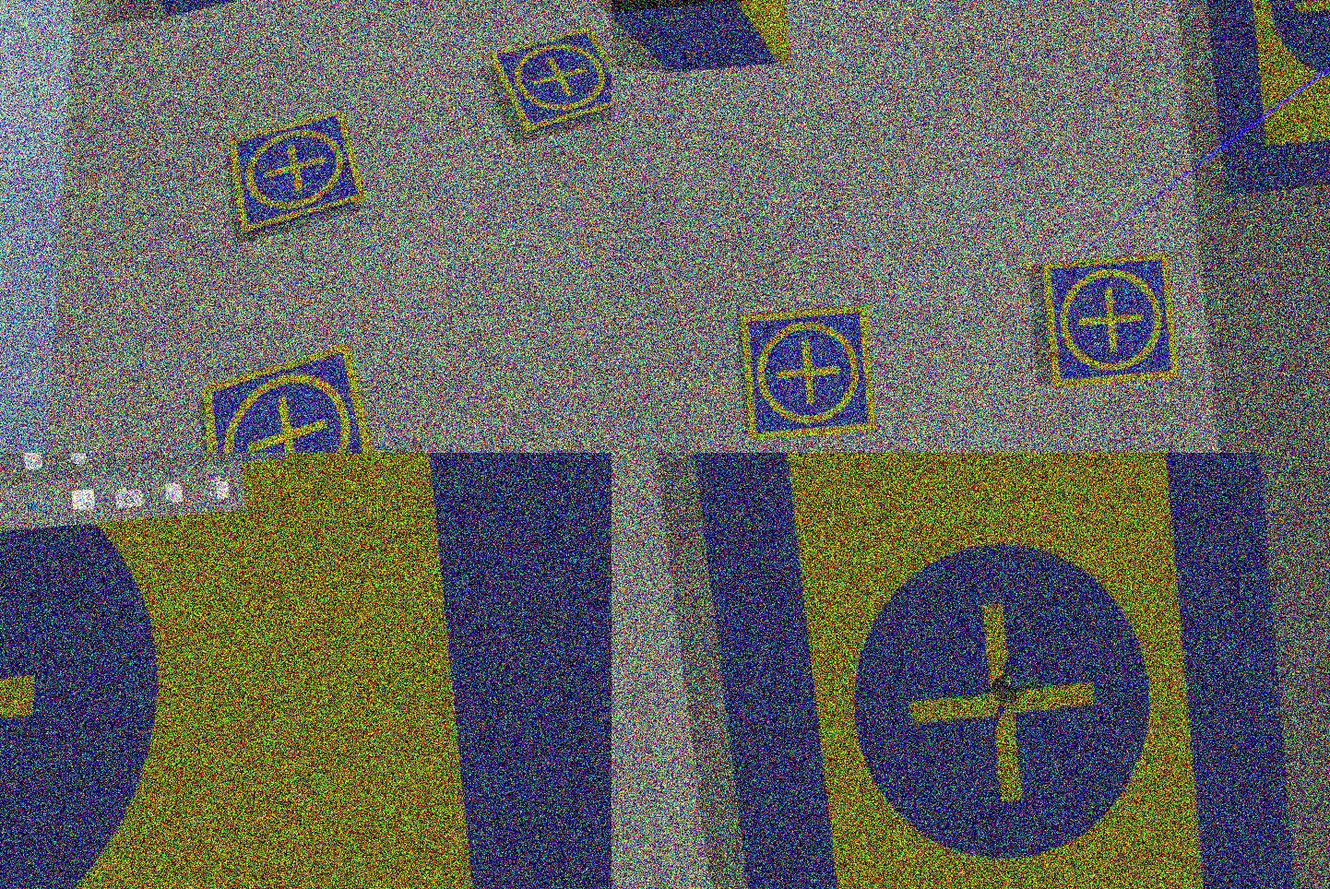large_base: (689, 454, 1314, 889), (1, 454, 612, 889), (1202, 1, 1330, 198)
small_base: (196, 341, 390, 454), (737, 304, 880, 446), (1038, 251, 1182, 391), (222, 112, 368, 236), (490, 27, 612, 139)
